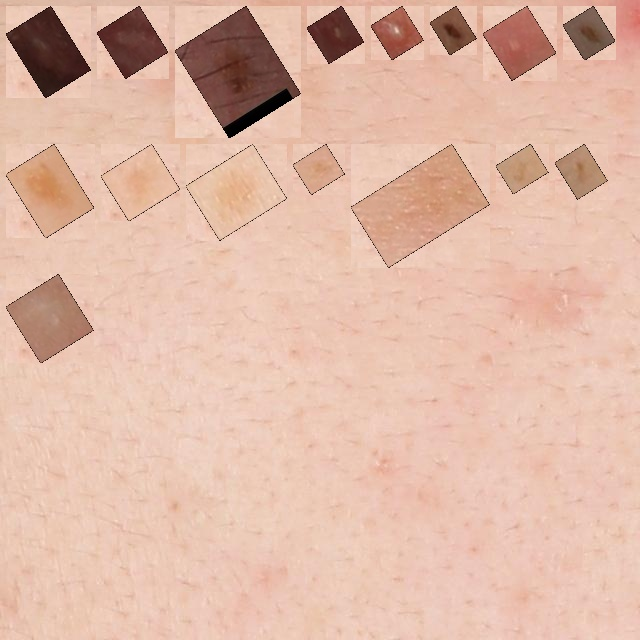hypertrophic_scar: (17, 285, 83, 352), (17, 17, 80, 87), (108, 17, 157, 67)
melasma: (362, 155, 479, 256), (197, 155, 276, 229), (17, 155, 83, 227), (112, 155, 169, 210), (566, 155, 596, 188), (304, 155, 334, 183), (507, 155, 537, 183)
nevus: (186, 17, 290, 127), (574, 17, 604, 49), (441, 17, 465, 44)
pustule: (494, 17, 545, 69), (318, 17, 353, 52), (382, 17, 413, 49)
